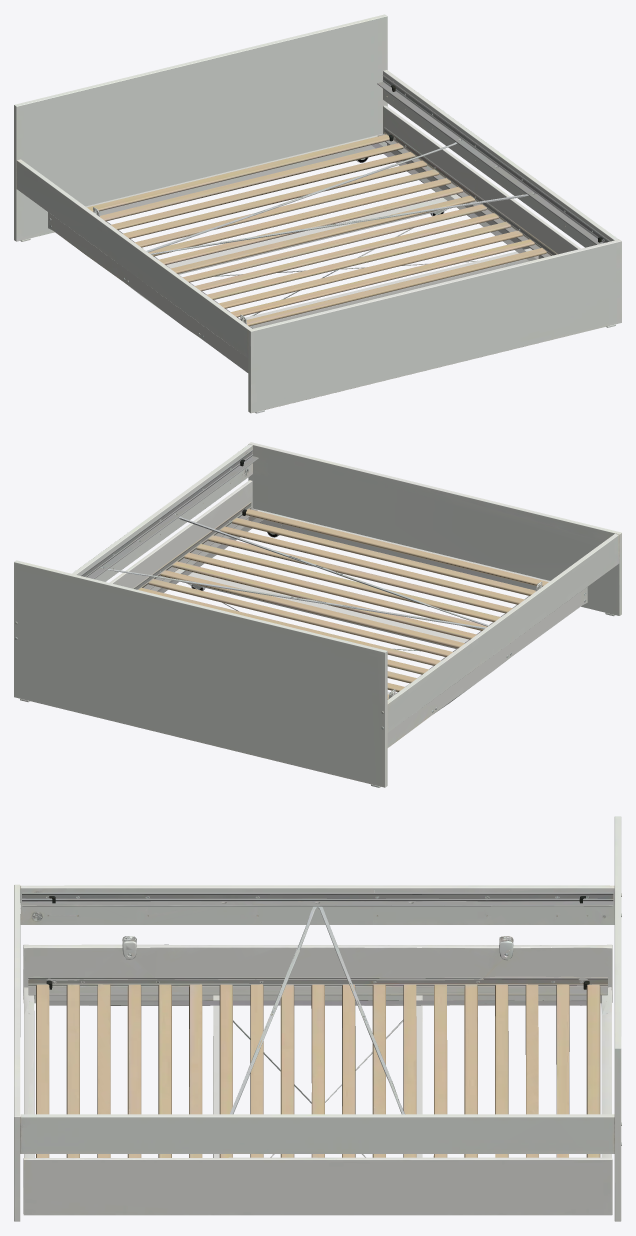
Rendered from 07 - VIHALS - 床架附1張子母床, 白色Luröy, 180x200 公分 IKEA 線上購物.glb.
3 views of the same model, one above another, from view 1: azimuth 30°, elevation 25°; view 2: azimuth 150°, elevation 25°; view 3: azimuth 270°, elevation 25° (orthographic). The views are drawn at different scales.
Parts seen in each view (by area): view 1: base_bedsize; view 2: base_bedsize; view 3: base_bedsize.
Boxes of the visible parts, bbox=[...] form: base_bedsize: bbox=[14, 14, 621, 413]; base_bedsize: bbox=[14, 442, 621, 787]; base_bedsize: bbox=[14, 816, 621, 1221].
Bounding box in the file's own units: 1.87 × 0.6581 × 2.07.
3 materials, 3 textured.
